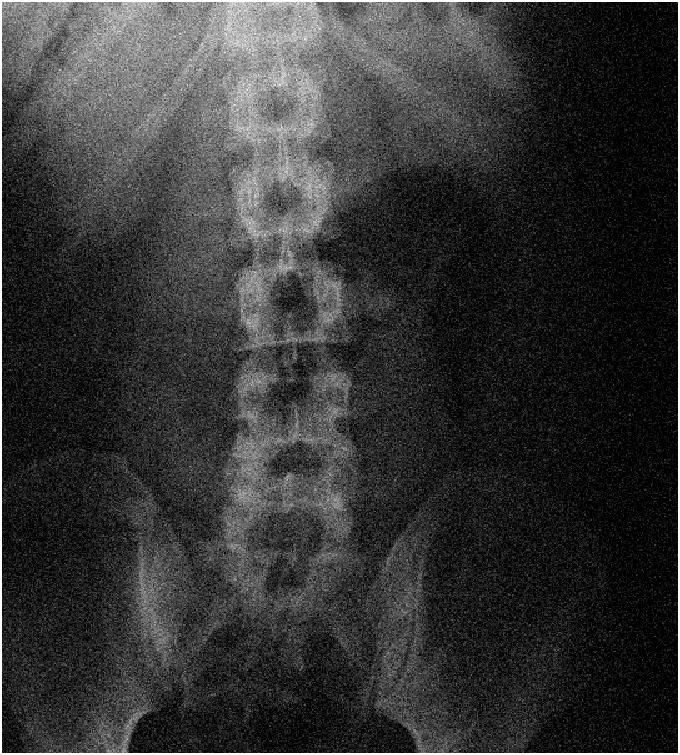lumbar scoliosis: (188, 169, 354, 580)
